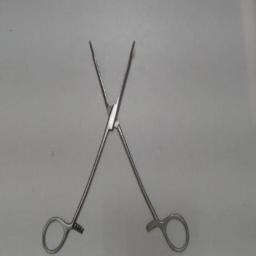Lahey Forceps: (40, 35, 190, 255)
